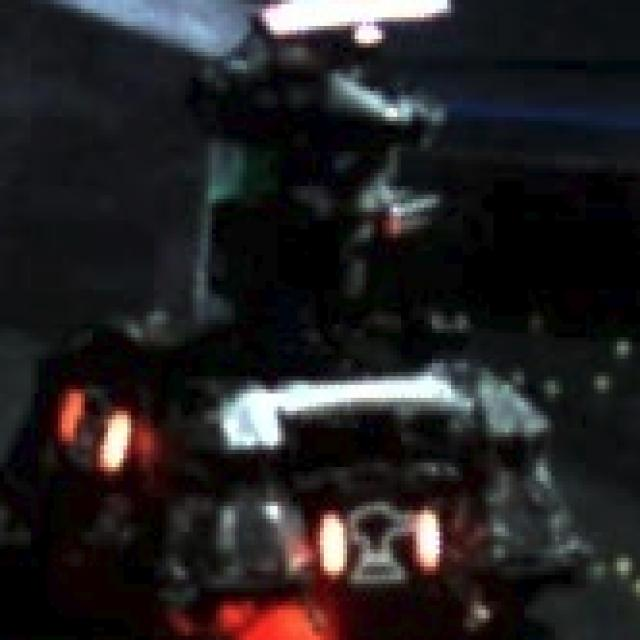Rs: (316, 493, 440, 584), (54, 380, 131, 484)
